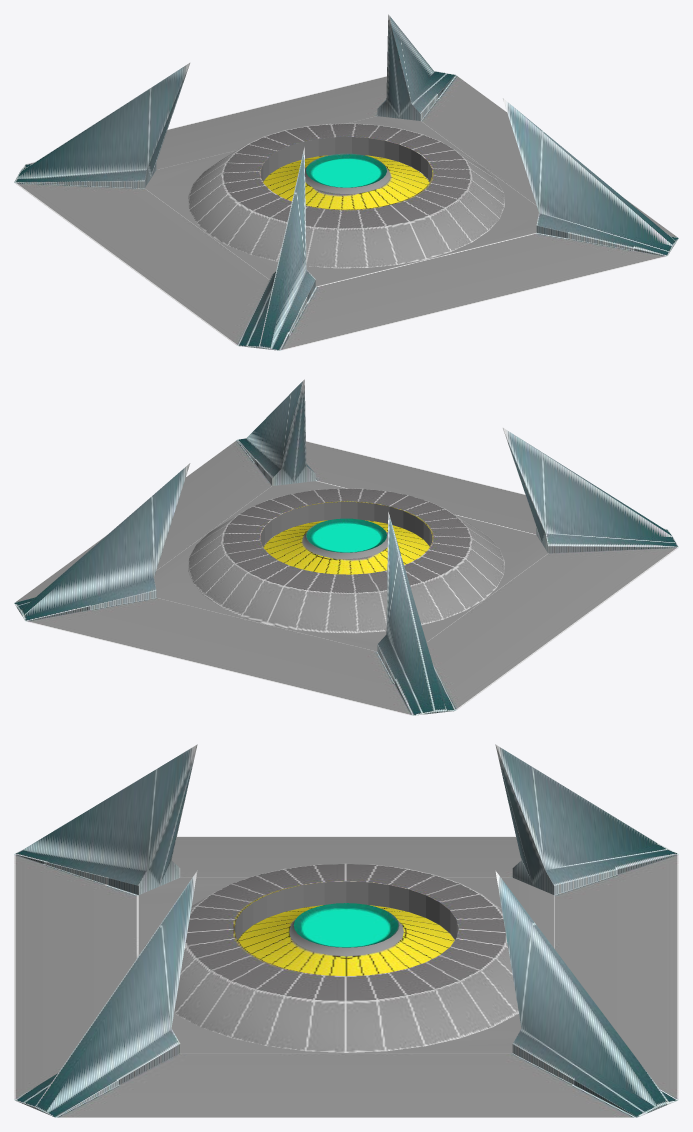
The model's file is warp.FBX.
3 renders of one model, top to bottom at view 1: azimuth 30°, elevation 25°; view 2: azimuth 150°, elevation 25°; view 3: azimuth 270°, elevation 25°, orthographic. The views are drawn at different scales.
Visible parts, largest first — view 1: Sphere001; view 2: Sphere001; view 3: Sphere001.
Part boxes in pixels (x1,y1,x2,y2): Sphere001: [14, 14, 678, 350]; Sphere001: [14, 379, 678, 715]; Sphere001: [14, 744, 678, 1117].
Bounding box in the file's own units: 86.12 × 24.29 × 86.12.
Materials: 2 (1 with a texture image).
